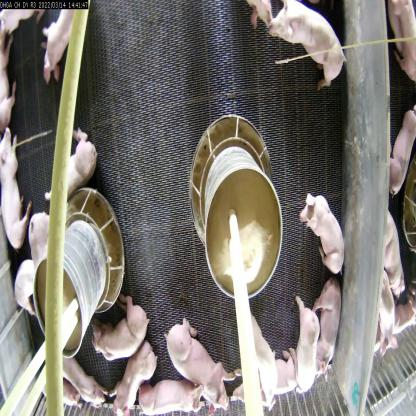Pig: (272, 1, 354, 84), (284, 295, 330, 415), (158, 318, 225, 398), (30, 0, 82, 86), (36, 142, 103, 208), (301, 197, 349, 281), (107, 342, 157, 415), (312, 276, 351, 368), (95, 290, 146, 357), (136, 368, 196, 415), (245, 320, 280, 398), (244, 359, 303, 401), (0, 134, 23, 241)
